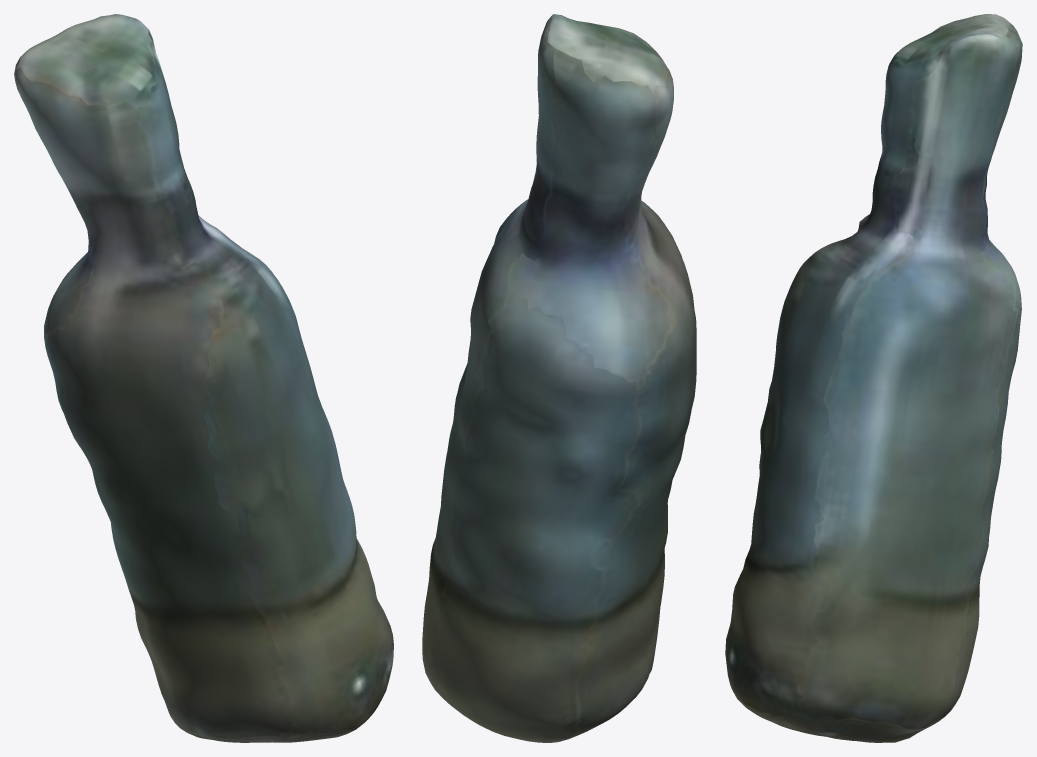
The model's file is 12_bottle.glb.
3 views of the same model, side by side, from view 1: azimuth 30°, elevation 25°; view 2: azimuth 150°, elevation 25°; view 3: azimuth 270°, elevation 25° (orthographic). The views are drawn at different scales.
Visible parts, largest first — view 1: 12_bottle; view 2: 12_bottle; view 3: 12_bottle.
Boxes of the visible parts, box(x1,y1,x2,y2) form: 12_bottle: box(14, 14, 393, 742); 12_bottle: box(422, 14, 696, 742); 12_bottle: box(725, 14, 1022, 742).
Size of the model in its own units: 0.1391 by 0.3299 by 0.1336.
Materials: 1 (1 with a texture image).
